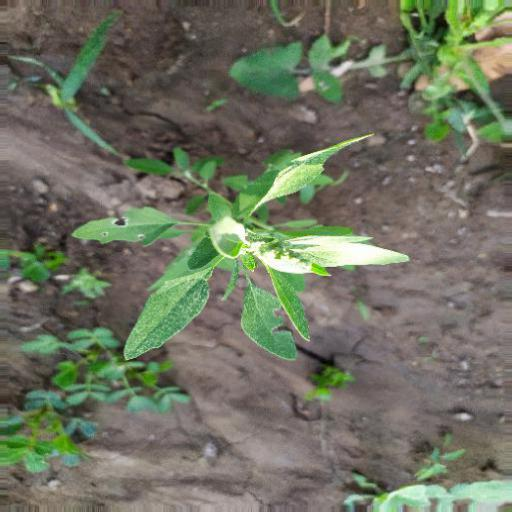weed: (82, 132, 413, 362)
